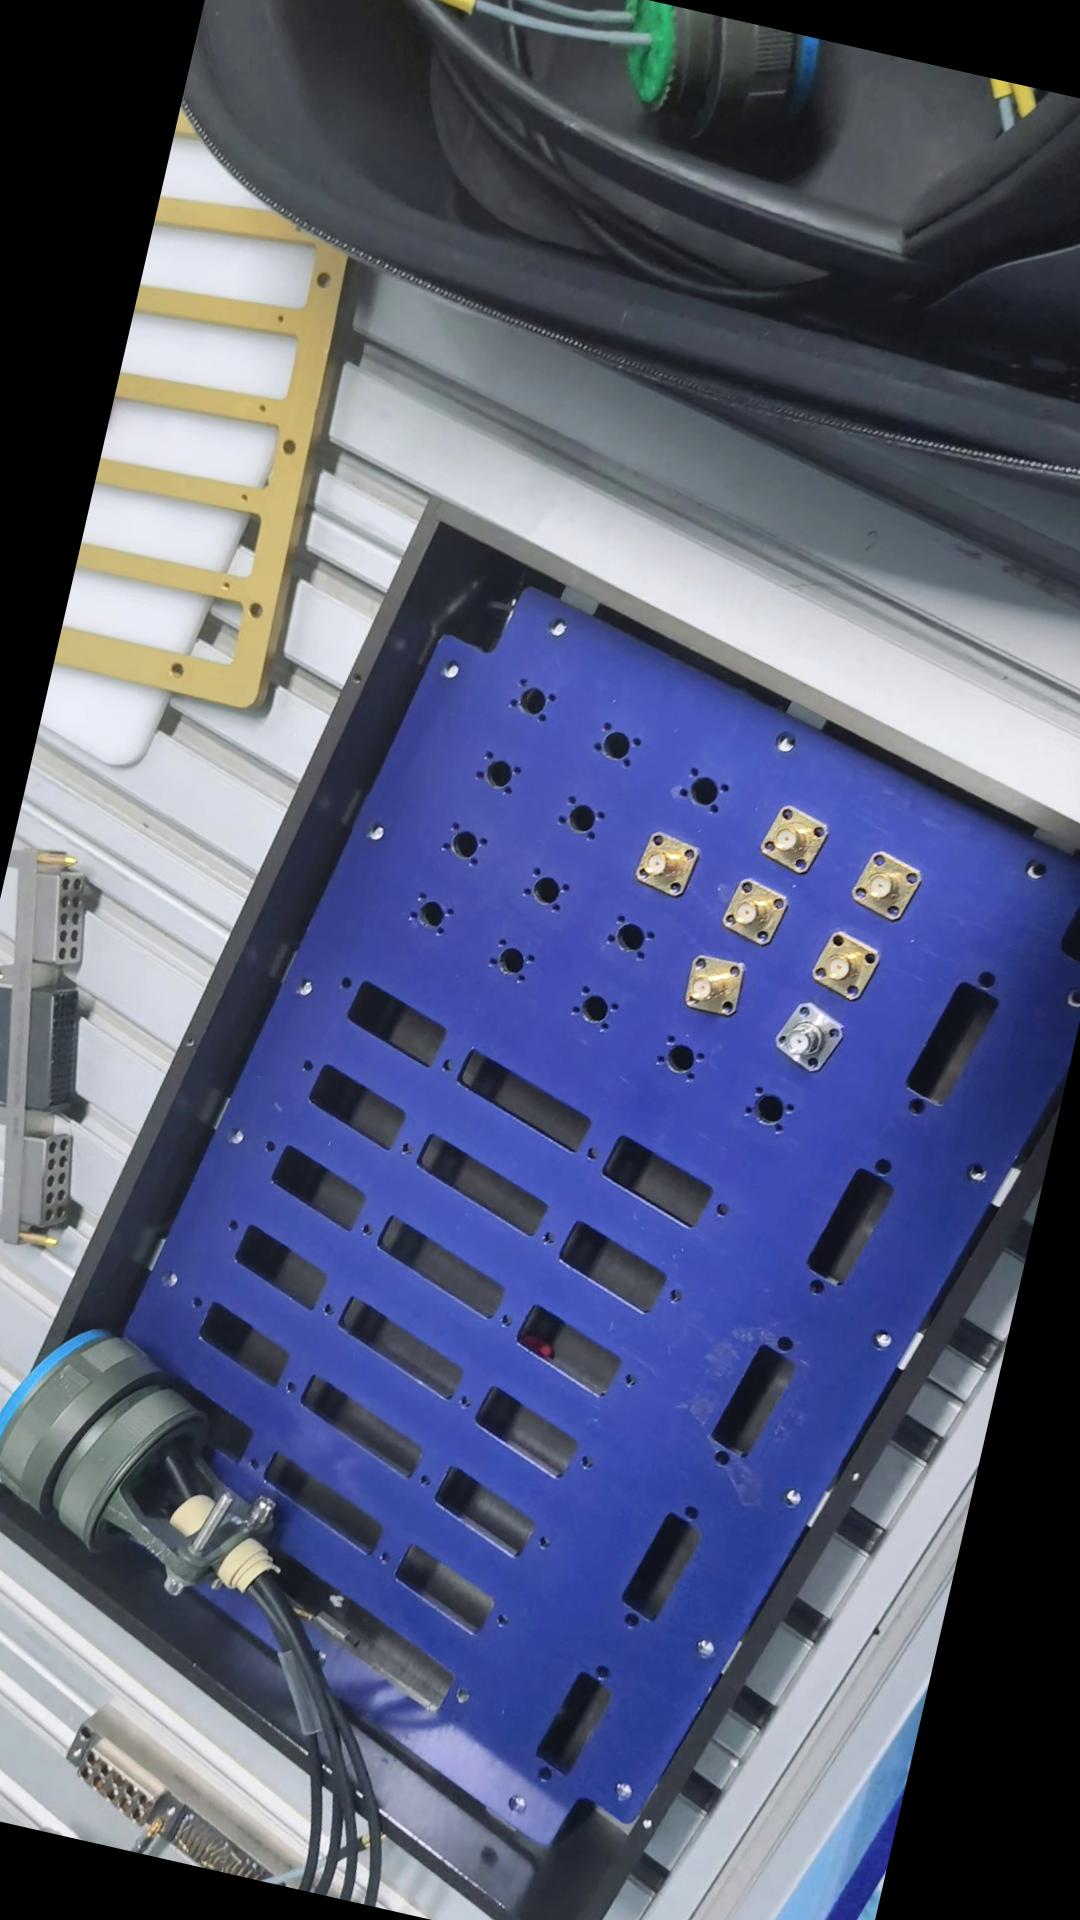SMA: (742, 800, 835, 878), (766, 996, 853, 1077), (618, 825, 705, 902), (802, 920, 884, 1000), (709, 874, 796, 947), (847, 844, 923, 922), (671, 947, 746, 1021)
